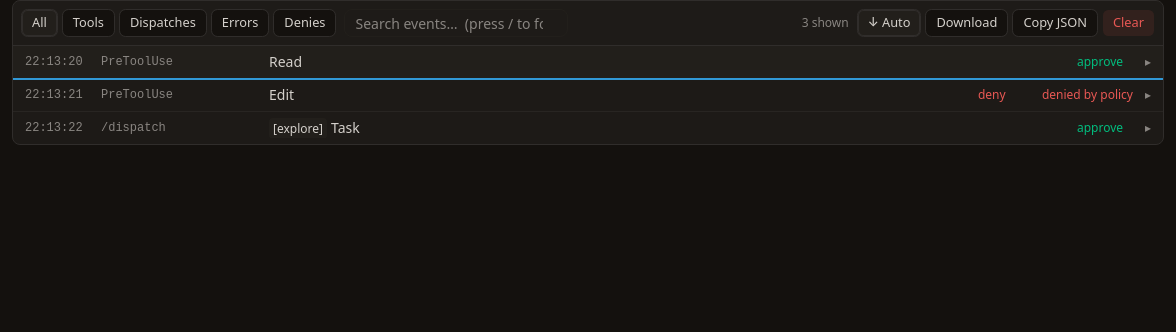
Test: EventsTab: keyboard interaction (P0-2) › rows render as focusable buttons; Enter expands detail
Check: the element with test id "events-list" is shown, box [13,46,1163,144]
Click the button with test id "event-row" at [54, 62], box [13,46,1163,78]
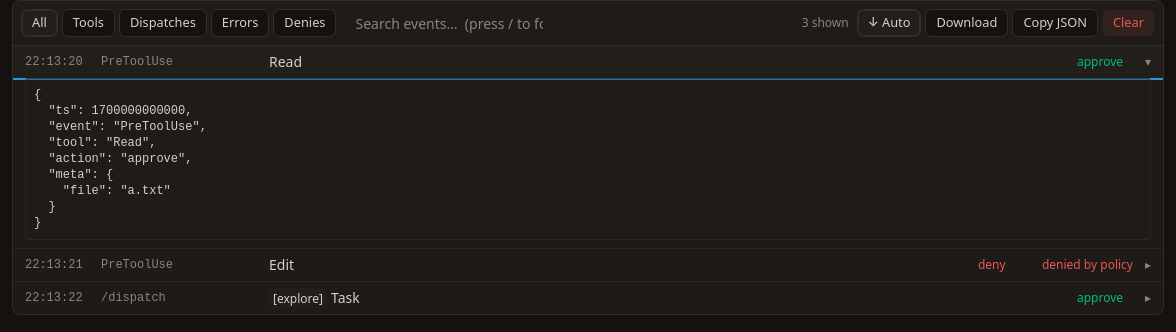
Check: the text with test id "event-detail" is shown, box [25,78,1151,240]
Click the button with test id "event-row" at [54, 62], box [13,46,1163,78]
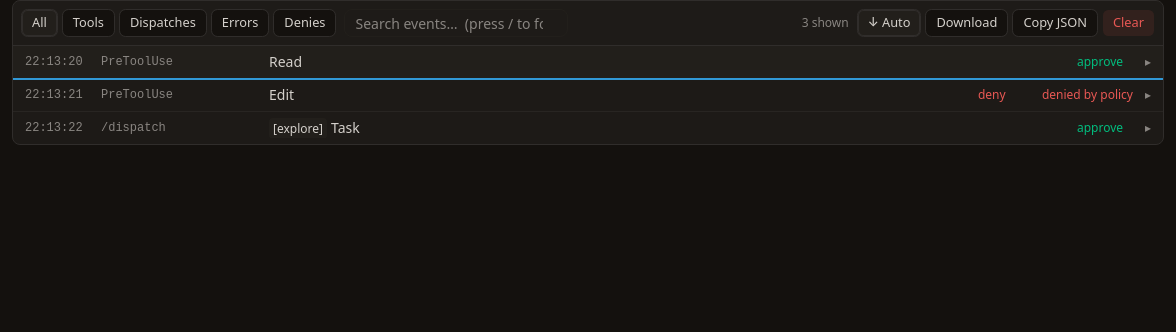
Check: the text with test id "event-detail" is gone
